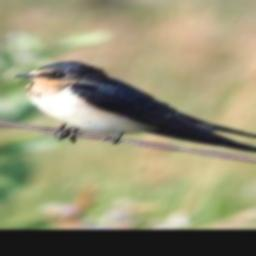Swallow: (11, 59, 256, 158)
